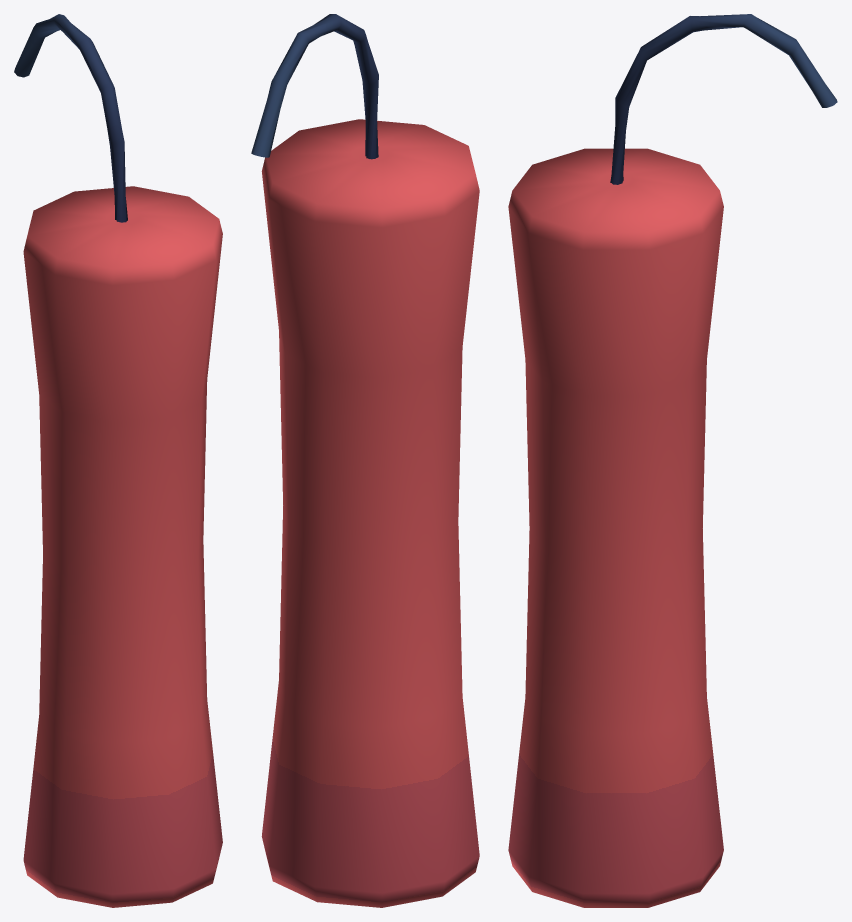
Rendered from Dynamite.fbx.
3 views of the same model, side by side, from view 1: azimuth 30°, elevation 25°; view 2: azimuth 150°, elevation 25°; view 3: azimuth 270°, elevation 25° (orthographic). The views are drawn at different scales.
Parts seen in each view (by area): view 1: dinamite; view 2: dinamite; view 3: dinamite.
Part boxes in pixels (<box>): dinamite: <box>14,14,222,907</box>; dinamite: <box>251,14,479,907</box>; dinamite: <box>508,14,837,907</box>.
Bounding box in the file's own units: 0.0636 × 0.1021 × 0.2915.
